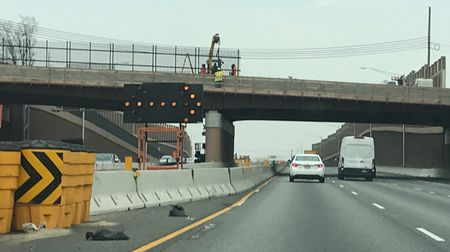bridge: (1, 62, 450, 126)
